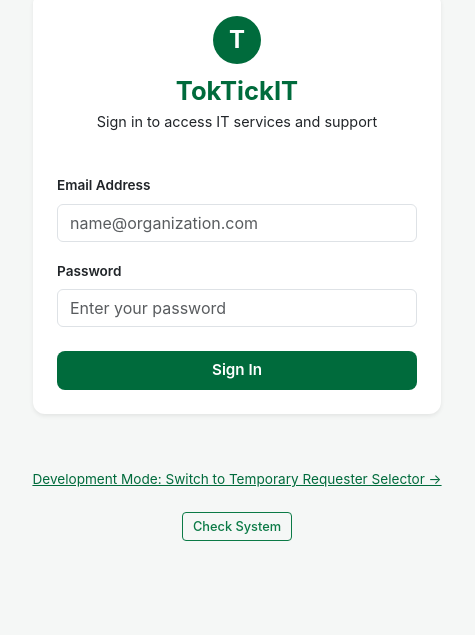
it: App Authentication & Shell Integration (UI-01, AC-01, AC-02, AC-05) › renders ChangePassword screen when user has mustChangePassword = true
Step 1. Type "somchai.j@kmutt.ac.th" into the field labelled "Email Address" → {"x": 237, "y": 223}, box [57,204,417,242]
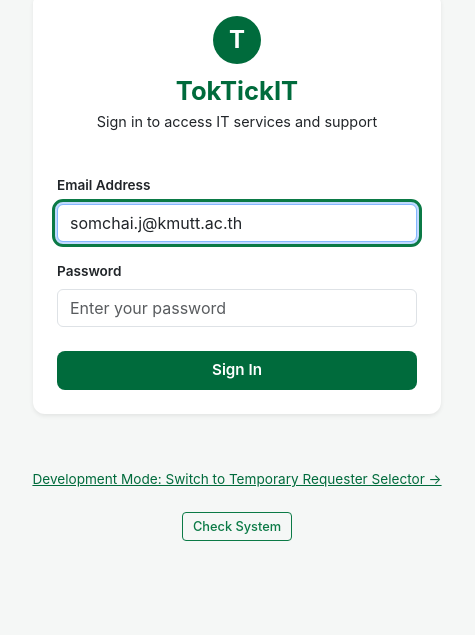
Step 2. Type "Password123!" into the password field labelled "Password" → {"x": 237, "y": 308}, box [57,289,417,327]
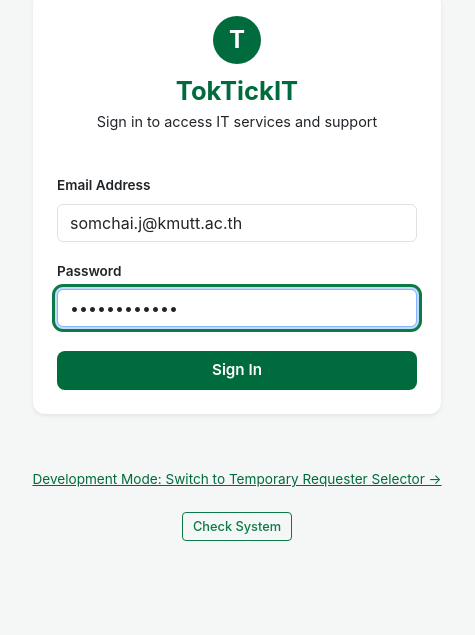
Step 3. Click the button "Sign In" → {"x": 237, "y": 370}, box [57,351,417,390]
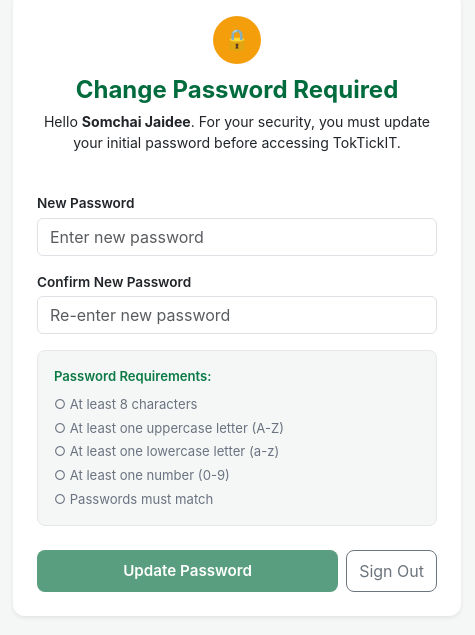
expect the heading "Change Password Required" is shown: met, box [76,75,398,104]
expect the button "Update Password" is shown: met, box [37,550,338,592]
